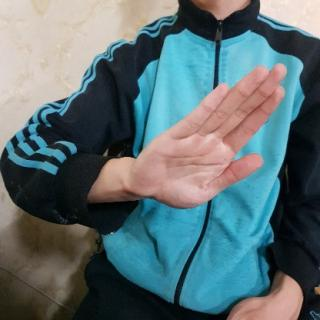SEEN: (122, 61, 292, 211)
